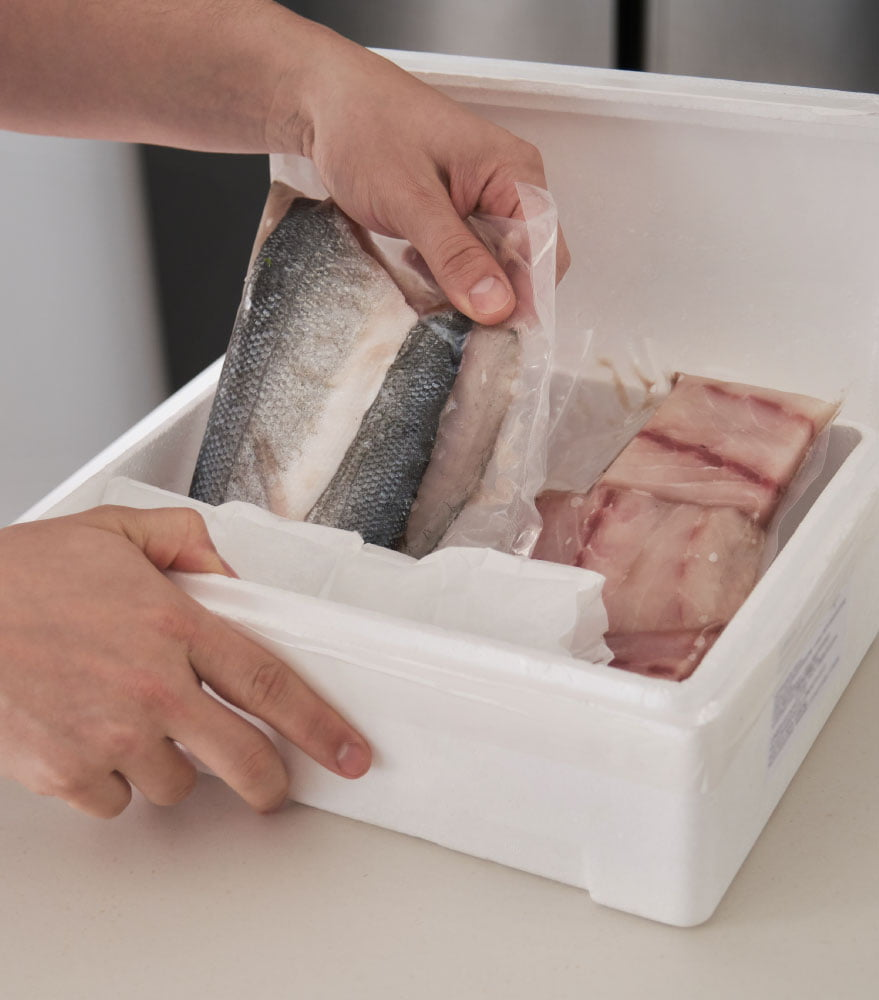泡沫箱: (21, 54, 878, 919)
